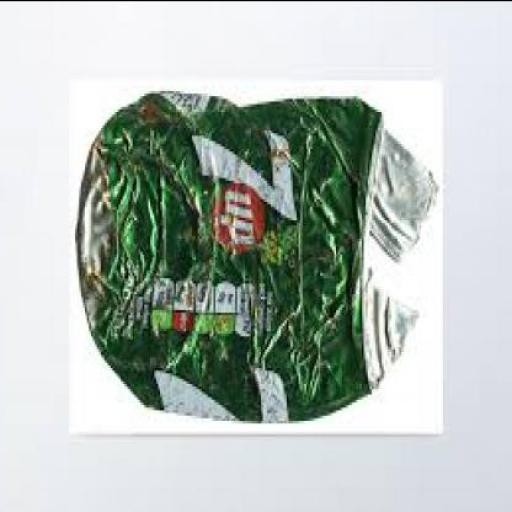metal: (77, 82, 441, 416)
